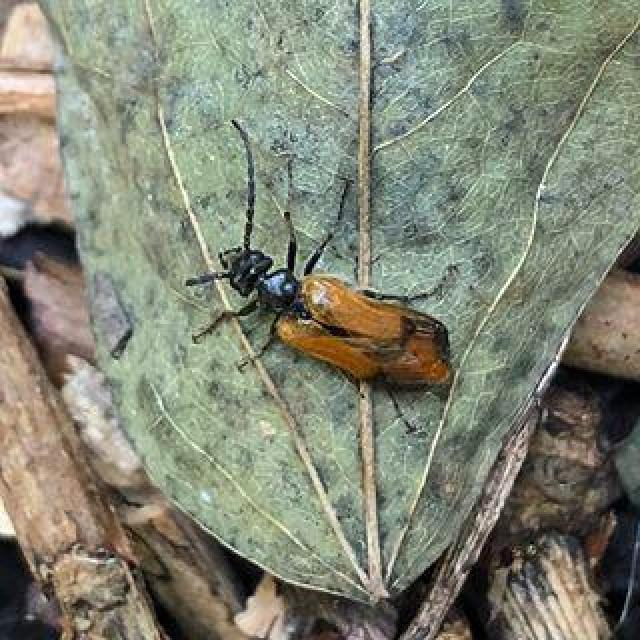BlisterBeetle-Adult-: (166, 110, 474, 433)
